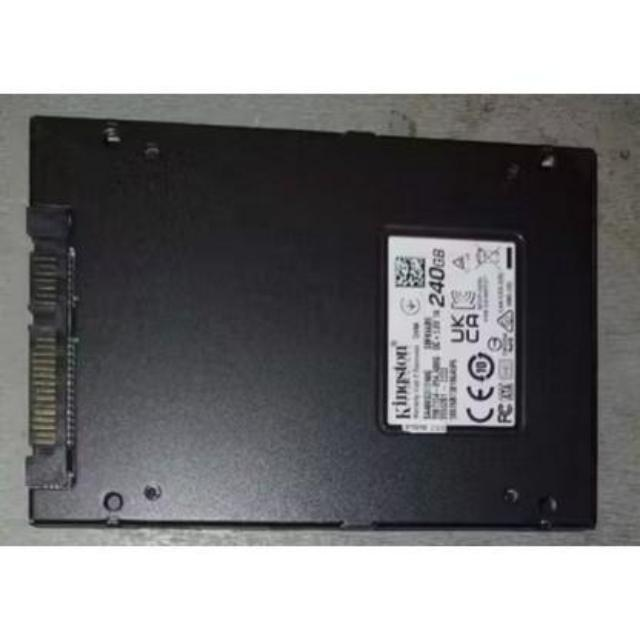DISK: (16, 106, 610, 536)
